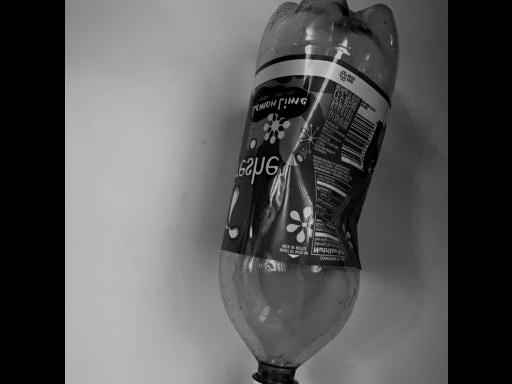bottle: (210, 0, 408, 384)
